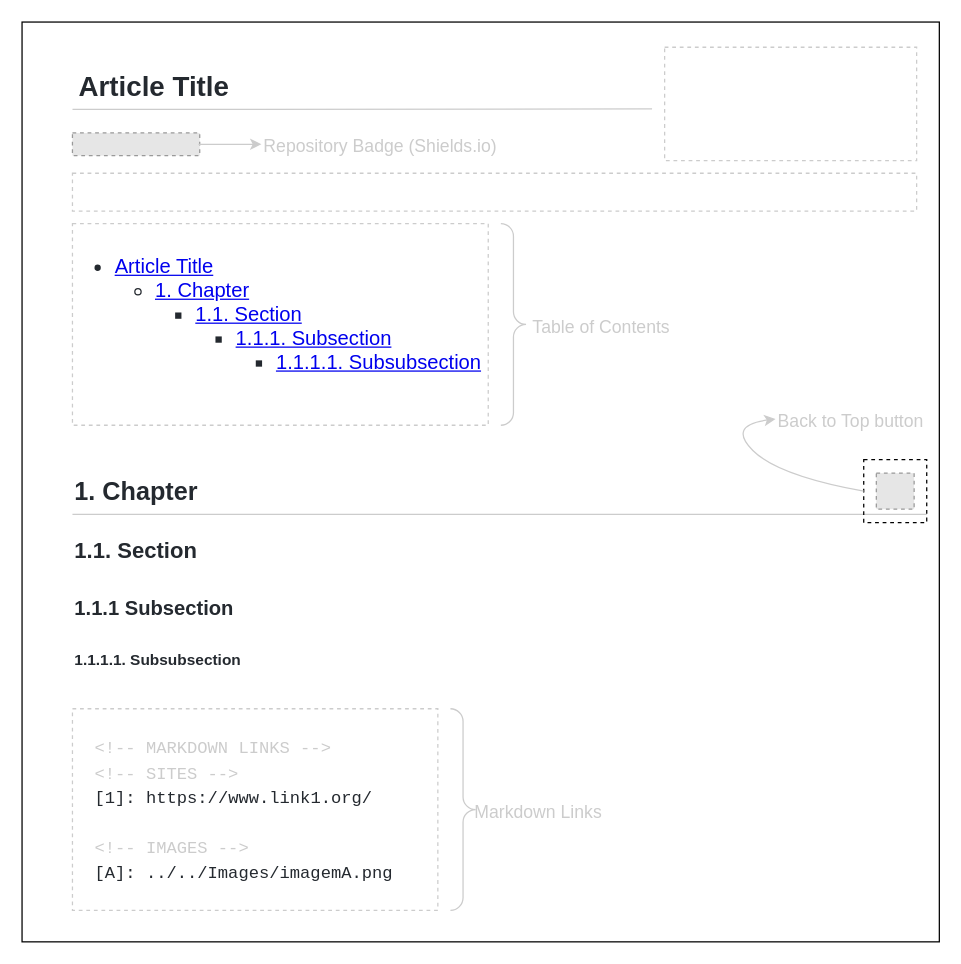
This 961x964 diagram has some shape labels left out. Grey dashed boxes stand in for pictures. Each missing label, with the box of its shape:
Article Logo: (663, 46, 917, 161)
🌐 Brief description of the document, with an initial logo/emoji: (71, 172, 917, 211)
